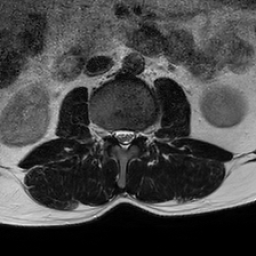CCS_normal: (120, 122, 126, 154)
LFS_normal: (134, 122, 142, 142)
LLS_normal: (128, 124, 134, 147)
RFS_stenosis: (105, 123, 114, 144)
RLS_normal: (113, 123, 120, 146)
